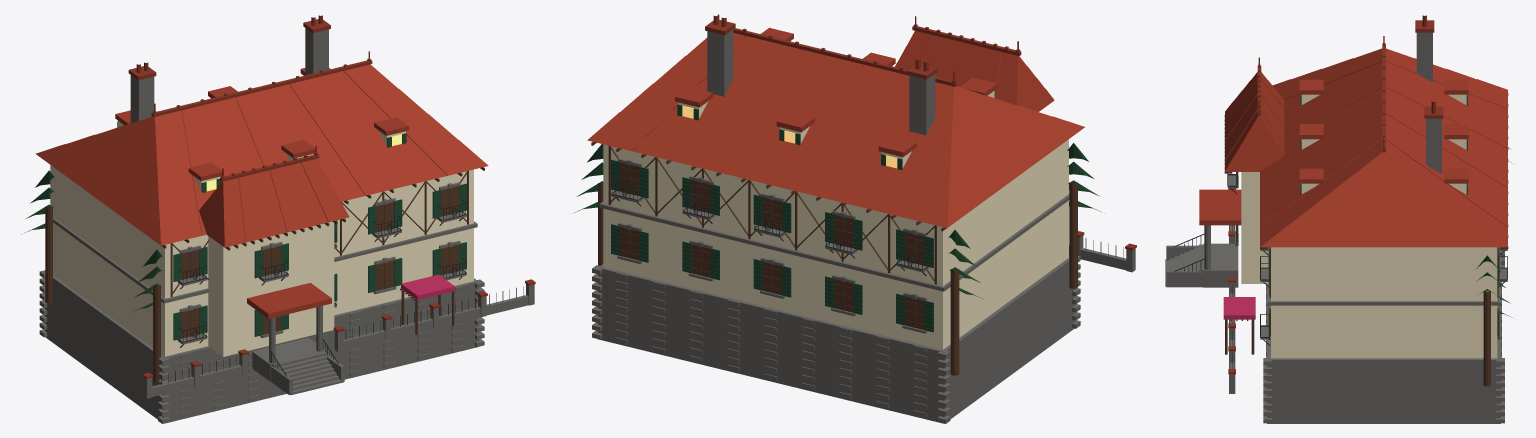
The model's file is fv_tp_01_hotel_du_parc_heritage_annex_1932.glb.
3 views of the same model, side by side, from view 1: azimuth 30°, elevation 25°; view 2: azimuth 150°, elevation 25°; view 3: azimuth 270°, elevation 25° (orthographic). The views are drawn at different scales.
Parts seen in each view (by area): view 1: marseille_corrugated_roof_tiles, granite_foundation_and_stairs, stucco_facade_and_dormers, colombage_timber_and_eaves, pine_green_louvered_shutters, ridge_cresting_and_chimneys, wrought_iron_balconies_3d, bougainvillea_pergola_clusters, pine_trees_and_garden_hedges; view 2: marseille_corrugated_roof_tiles, granite_foundation_and_stairs, stucco_facade_and_dormers, colombage_timber_and_eaves, pine_green_louvered_shutters, ridge_cresting_and_chimneys, pine_trees_and_garden_hedges, wrought_iron_balconies_3d; view 3: marseille_corrugated_roof_tiles, stucco_facade_and_dormers, granite_foundation_and_stairs, ridge_cresting_and_chimneys, colombage_timber_and_eaves, bougainvillea_pergola_clusters, wrought_iron_balconies_3d, pine_green_louvered_shutters.
Part boxes in pixels (<box>): marseille_corrugated_roof_tiles: <box>35,64,488,318</box>; granite_foundation_and_stairs: <box>39,28,534,423</box>; stucco_facade_and_dormers: <box>50,75,473,356</box>; colombage_timber_and_eaves: <box>45,167,484,382</box>; pine_green_louvered_shutters: <box>117,121,466,340</box>; ridge_cresting_and_chimneys: <box>128,15,535,378</box>; wrought_iron_balconies_3d: <box>154,199,523,386</box>; bougainvillea_pergola_clusters: <box>401,274,455,300</box>; pine_trees_and_garden_hedges: <box>21,170,162,313</box>; marseille_corrugated_roof_tiles: <box>587,27,1084,227</box>; granite_foundation_and_stairs: <box>592,29,1135,423</box>; stucco_facade_and_dormers: <box>603,41,1068,349</box>; colombage_timber_and_eaves: <box>591,142,1077,375</box>; pine_green_louvered_shutters: <box>611,91,995,332</box>; ridge_cresting_and_chimneys: <box>705,14,1136,250</box>; pine_trees_and_garden_hedges: <box>574,143,1104,299</box>; wrought_iron_balconies_3d: <box>611,177,1123,275</box>; marseille_corrugated_roof_tiles: <box>1199,48,1508,247</box>; stucco_facade_and_dormers: <box>1241,94,1497,358</box>; granite_foundation_and_stairs: <box>1165,32,1507,423</box>; ridge_cresting_and_chimneys: <box>1228,15,1443,374</box>; colombage_timber_and_eaves: <box>1224,93,1508,386</box>; bougainvillea_pergola_clusters: <box>1223,297,1255,319</box>; wrought_iron_balconies_3d: <box>1174,173,1507,368</box>; pine_green_louvered_shutters: <box>1236,94,1499,339</box>.
Size of the model in its own units: 29.72 by 21.03 by 23.92.
